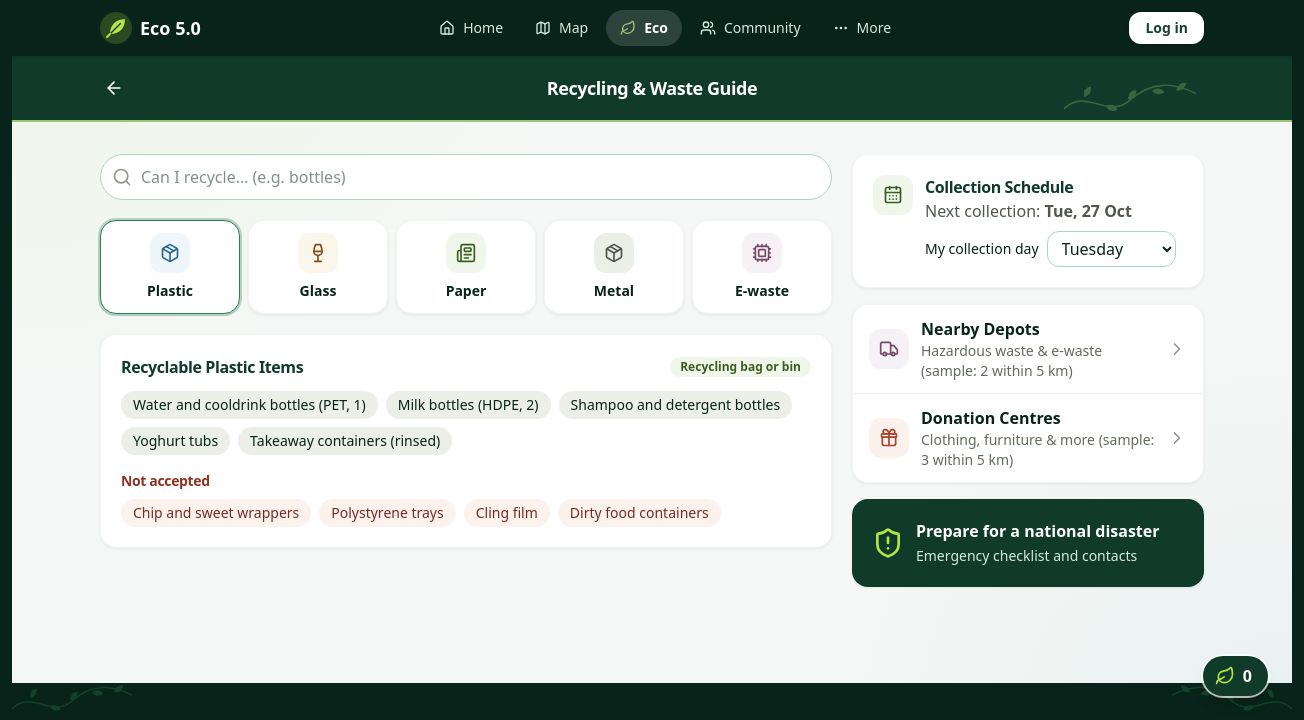
it: Recycling & Waste Guide (/eco/recycling) › searches across every material
The width and height of the screenshot is (1304, 720).
In the search field named "Search items": (466, 177) x1=100 y1=154 x2=832 y2=200, type "pizza"
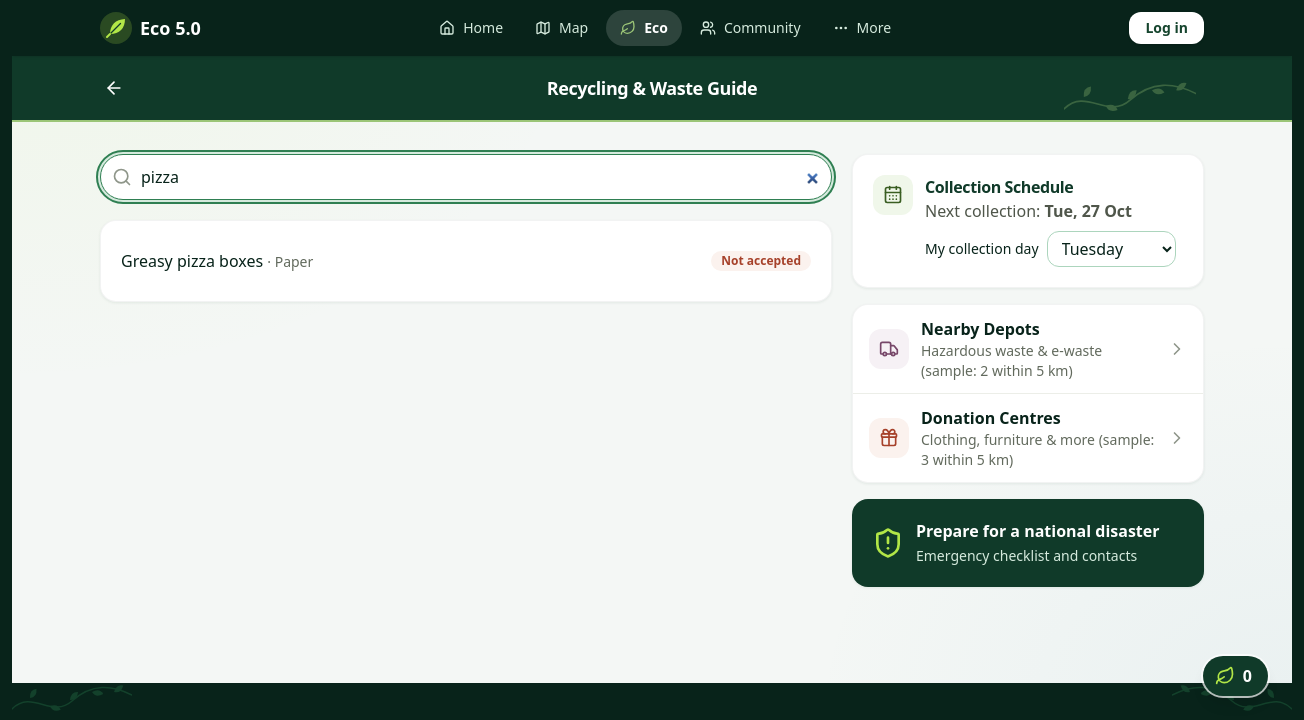
Result: the text "Greasy pizza boxes" is shown at x1=121 y1=250 x2=263 y2=272
Result: the text "Not accepted" is shown at x1=711 y1=251 x2=811 y2=271
